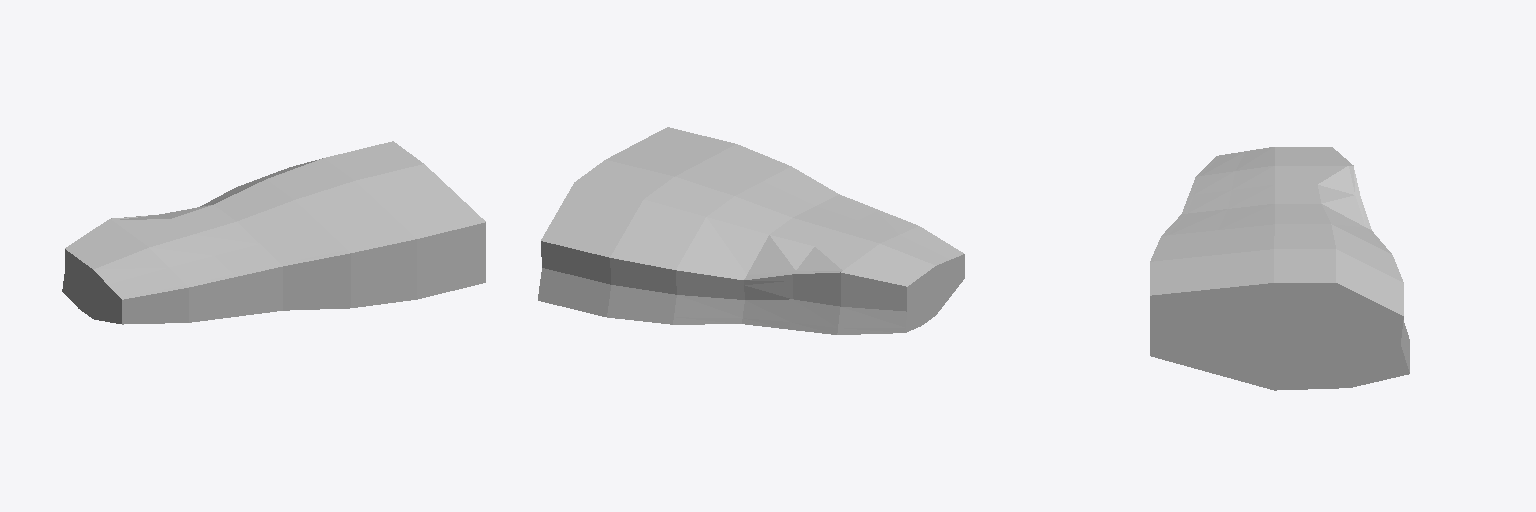
Rendered from guanciale.obj.
3 views of the same model, side by side, from view 1: azimuth 30°, elevation 25°; view 2: azimuth 150°, elevation 25°; view 3: azimuth 270°, elevation 25° (orthographic).
Parts seen in each view (by area): view 1: obj0; view 2: obj0; view 3: obj0.
Boxes of the visible parts, x1,y1,x2,y2 form: obj0: [62, 141, 485, 324]; obj0: [538, 127, 964, 334]; obj0: [1150, 147, 1409, 390].
Bounding box in the file's own units: 3.44 × 1.07 × 2.34.